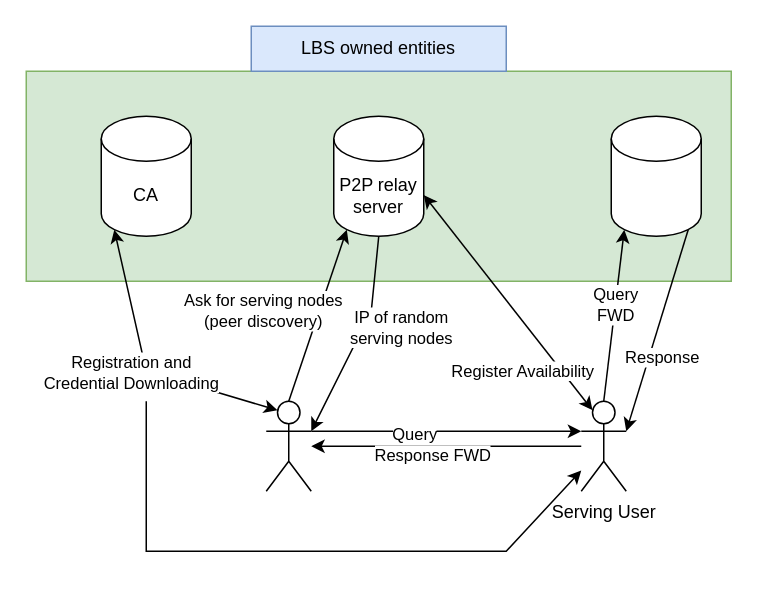
Image size: 758x590. Some labels were removed from this diagram. Here are the shapes that lost their labels. From the top down, the centre of each, then its label:
At pixel 655 175: "LBS Server".
At pixel 288 445: "Querying User".
